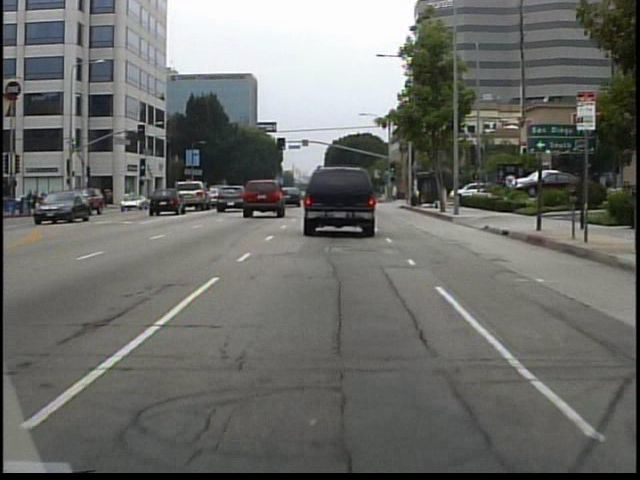person: (391, 182, 402, 204), (129, 192, 130, 210)
